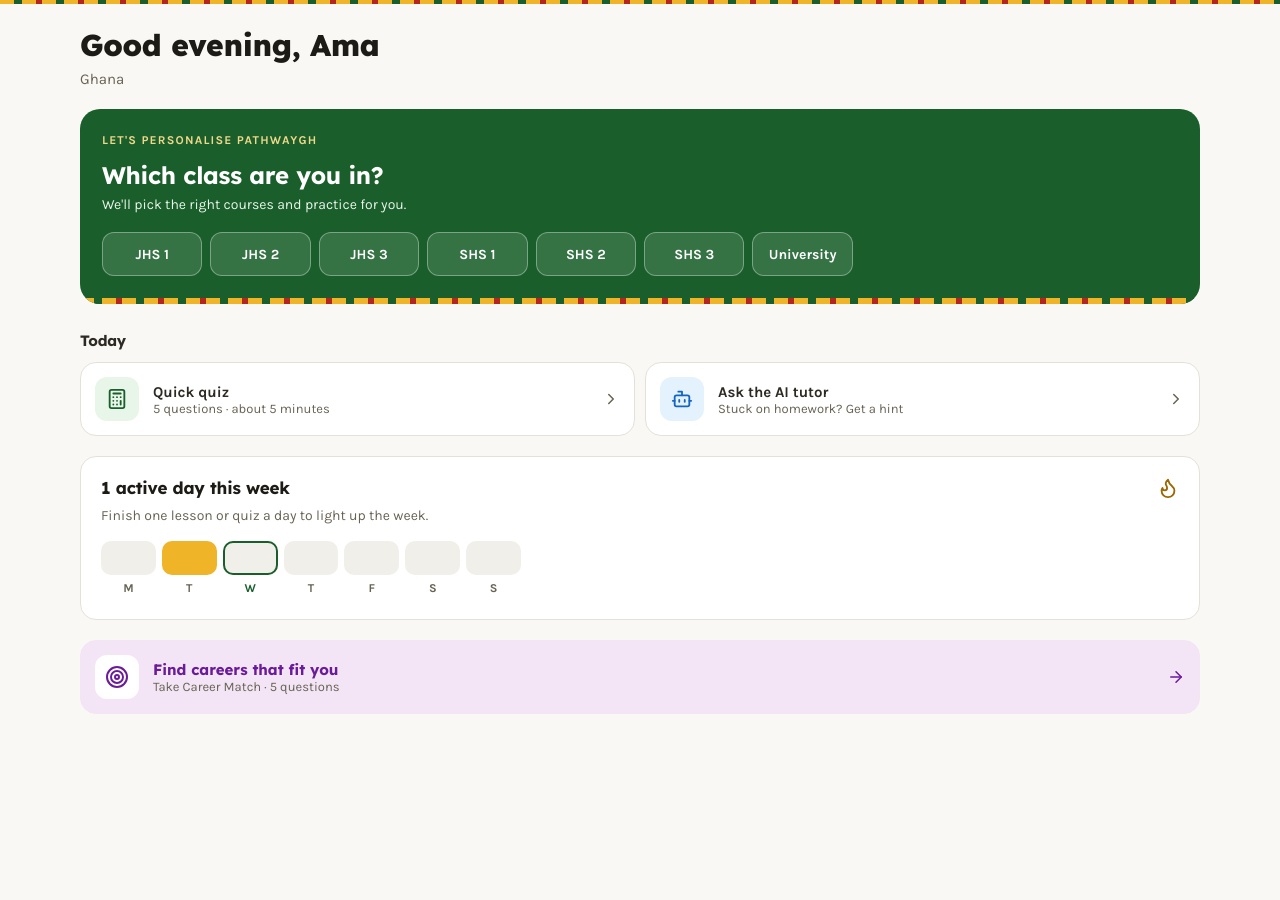
Test case: Home (DashboardModule) › asks for the class when the level is unknown, saves it, and refreshes
Click the button "JHS 2". click: (261, 254)
box: [210,232,311,276]
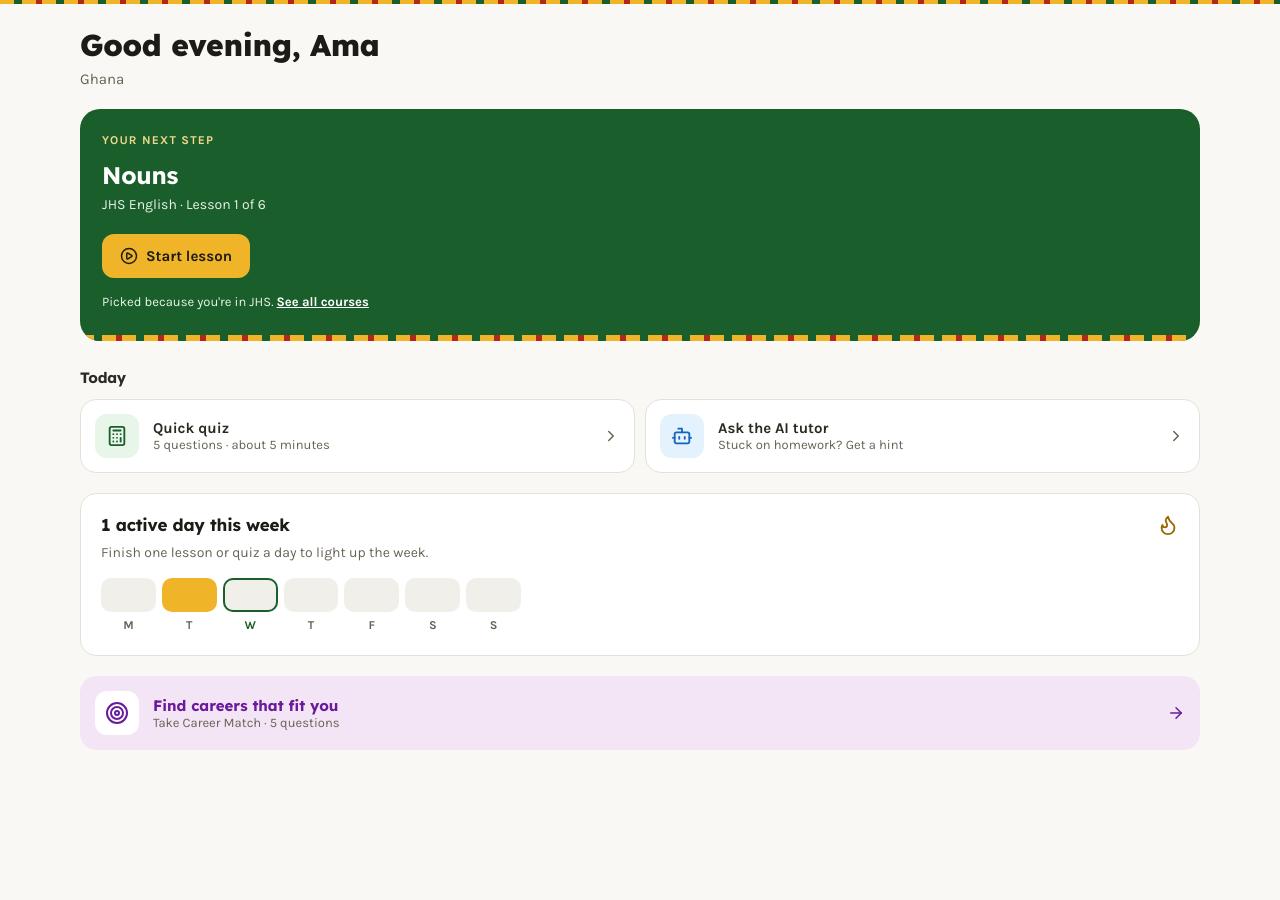
Expected: the heading "Nouns" is shown, [102,160,178,190]
